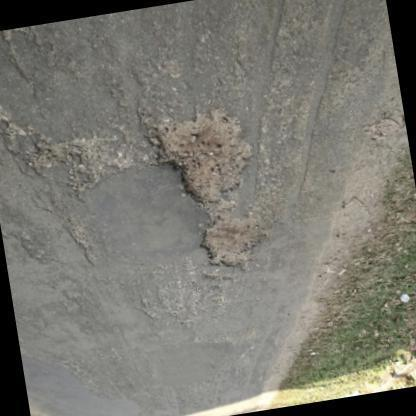pothole: (148, 110, 253, 208), (2, 119, 121, 187), (202, 207, 268, 270)
